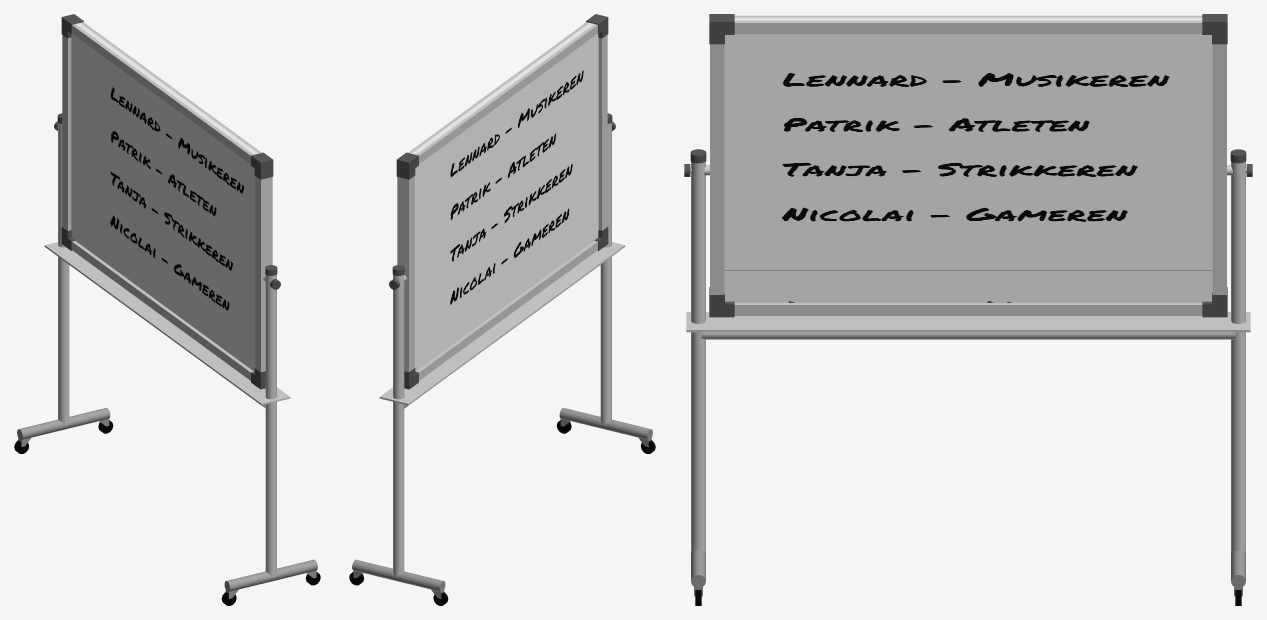
File: whiteboard-text.gltf
3 renders of one model, left to right at view 1: azimuth 30°, elevation 25°; view 2: azimuth 150°, elevation 25°; view 3: azimuth 270°, elevation 25°, orthographic. The views are drawn at different scales.
Visible parts, largest first — view 1: Backboard, Side Stands, Sideboards (Top and Bottom), Sideboards (Left and Right), Marker Holder, Bottom Stands, Corner Vertical, Wheel, Corner Horizontal; view 2: Backboard, Side Stands, Sideboards (Top and Bottom), Sideboards (Left and Right), Marker Holder, Bottom Stands, Corner Vertical, Wheel, Corner Horizontal; view 3: Backboard, Sideboards (Top and Bottom), Side Stands, Marker Holder, Sideboards (Left and Right), Undercarraige, Corner Vertical, Bottom Stands, Corner Horizontal.
Part boxes in pixels (<box>): Backboard: <box>71,23,258,371</box>; Side Stands: <box>58,122,276,577</box>; Sideboards (Top and Bottom): <box>72,22,261,380</box>; Sideboards (Left and Right): <box>62,35,272,371</box>; Marker Holder: <box>44,242,290,405</box>; Bottom Stands: <box>17,407,317,591</box>; Corner Vertical: <box>61,14,273,389</box>; Wheel: <box>14,420,320,605</box>; Corner Horizontal: <box>64,16,269,387</box>; Backboard: <box>411,23,598,371</box>; Side Stands: <box>393,122,611,577</box>; Sideboards (Top and Bottom): <box>408,22,597,380</box>; Sideboards (Left and Right): <box>397,35,607,371</box>; Marker Holder: <box>379,242,625,405</box>; Bottom Stands: <box>352,407,652,591</box>; Corner Vertical: <box>396,14,608,389</box>; Wheel: <box>349,420,655,605</box>; Corner Horizontal: <box>400,16,605,387</box>; Backboard: <box>724,17,1212,302</box>; Sideboards (Top and Bottom): <box>734,15,1202,315</box>; Side Stands: <box>691,161,1245,552</box>; Marker Holder: <box>686,312,1250,332</box>; Sideboards (Left and Right): <box>710,44,1226,294</box>; Undercarraige: <box>701,332,1235,339</box>; Corner Vertical: <box>709,14,1227,317</box>; Bottom Stands: <box>691,550,1245,588</box>; Corner Horizontal: <box>717,14,1219,317</box>.
Bounding box in the file's own units: 0.8209 × 3.5 × 3.21.
Materials: 14 (1 with a texture image).
